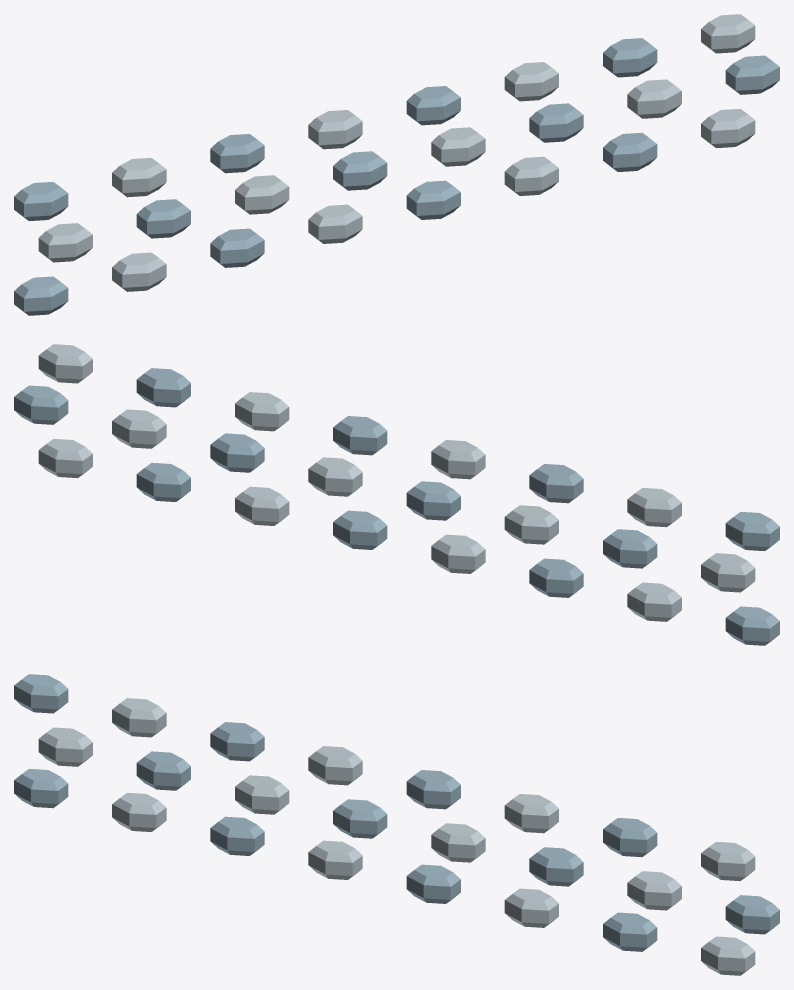
Rendered from owl_wall_broken.glb.
3 views of the same model, one above another, from view 1: azimuth 30°, elevation 25°; view 2: azimuth 150°, elevation 25°; view 3: azimuth 330°, elevation 25° (orthographic).
Visible parts, largest first — view 1: owl_wall_piece5, owl_wall_piece7, owl_wall_piece3, owl_wall_piece6, owl_wall_piece0, owl_wall_piece4, owl_wall_piece2, owl_wall_piece9, owl_wall_piece10, owl_wall_piece1, owl_wall_piece8, owl_wall_piece11 (+1 smaller); view 2: owl_wall_piece5, owl_wall_piece3, owl_wall_piece2, owl_wall_piece7, owl_wall_piece6, owl_wall_piece1, owl_wall_piece10, owl_wall_piece4, owl_wall_piece0, owl_wall_piece13; view 3: owl_wall_piece5, owl_wall_piece7, owl_wall_piece3, owl_wall_piece6, owl_wall_piece0, owl_wall_piece4, owl_wall_piece2, owl_wall_piece9, owl_wall_piece10, owl_wall_piece8, owl_wall_piece1, owl_wall_piece11 (+1 smaller).
Boxes of the visible parts, x1,y1,x2,y2 form: owl_wall_piece5: (603,14,779,171); owl_wall_piece7: (14,208,166,315); owl_wall_piece3: (414,38,650,156); owl_wall_piece6: (504,45,652,195); owl_wall_piece0: (308,139,485,243); owl_wall_piece4: (232,88,425,176); owl_wall_piece2: (136,173,343,268); owl_wall_piece9: (129,153,289,224); owl_wall_piece10: (14,158,180,219); owl_wall_piece1: (210,134,373,195); owl_wall_piece8: (218,178,384,267); owl_wall_piece11: (23,170,157,220); owl_wall_piece5: (14,344,190,501); owl_wall_piece3: (136,368,387,492); owl_wall_piece2: (406,503,657,597); owl_wall_piece7: (627,538,779,645); owl_wall_piece6: (170,387,289,525); owl_wall_piece1: (326,468,583,524); owl_wall_piece10: (615,488,779,546); owl_wall_piece4: (348,425,570,486); owl_wall_piece0: (333,480,541,592); owl_wall_piece13: (308,457,477,569); owl_wall_piece5: (603,833,779,975); owl_wall_piece7: (14,727,166,831); owl_wall_piece3: (406,771,657,843); owl_wall_piece6: (504,830,642,927); owl_wall_piece0: (258,837,479,903); owl_wall_piece4: (222,729,438,827); owl_wall_piece2: (136,751,379,845); owl_wall_piece9: (120,718,283,811); owl_wall_piece10: (14,674,179,763); owl_wall_piece8: (210,831,375,872); owl_wall_piece1: (210,722,387,832); owl_wall_piece11: (14,685,142,732).
Size of the model in its own units: 6.02 by 0.92 by 0.28.
